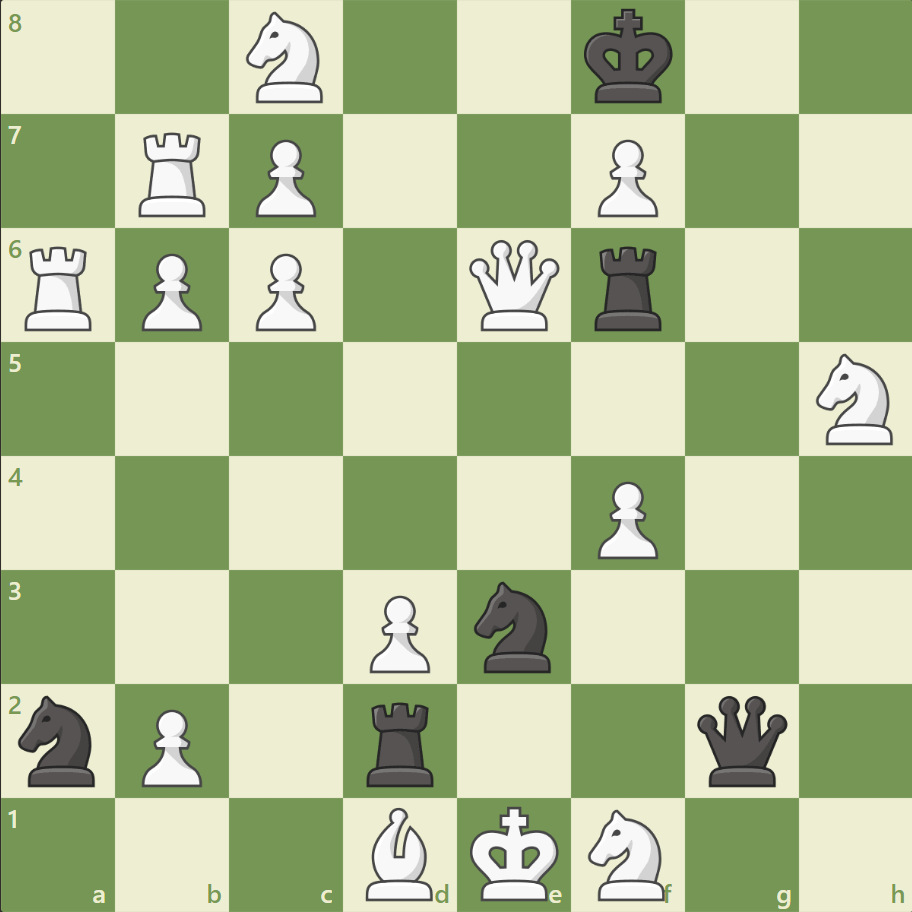B: (358, 801, 442, 904)
K: (465, 798, 565, 906)
N: (238, 7, 335, 110), (806, 348, 903, 450), (579, 802, 676, 904)
P: (247, 132, 322, 223), (133, 246, 208, 337), (247, 246, 322, 337), (133, 700, 208, 791), (588, 132, 662, 223), (588, 473, 662, 564), (361, 586, 435, 677)
Q: (464, 236, 563, 335)
R: (19, 239, 102, 336), (133, 125, 215, 222)
k: (579, 4, 679, 112)
n: (11, 688, 108, 791), (465, 575, 562, 677)
q: (691, 690, 790, 789)
r: (587, 239, 670, 336), (360, 693, 442, 790)
